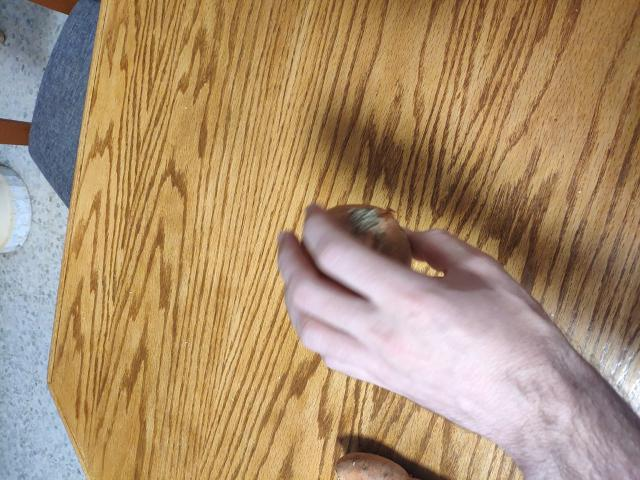onion: (288, 199, 420, 309)
